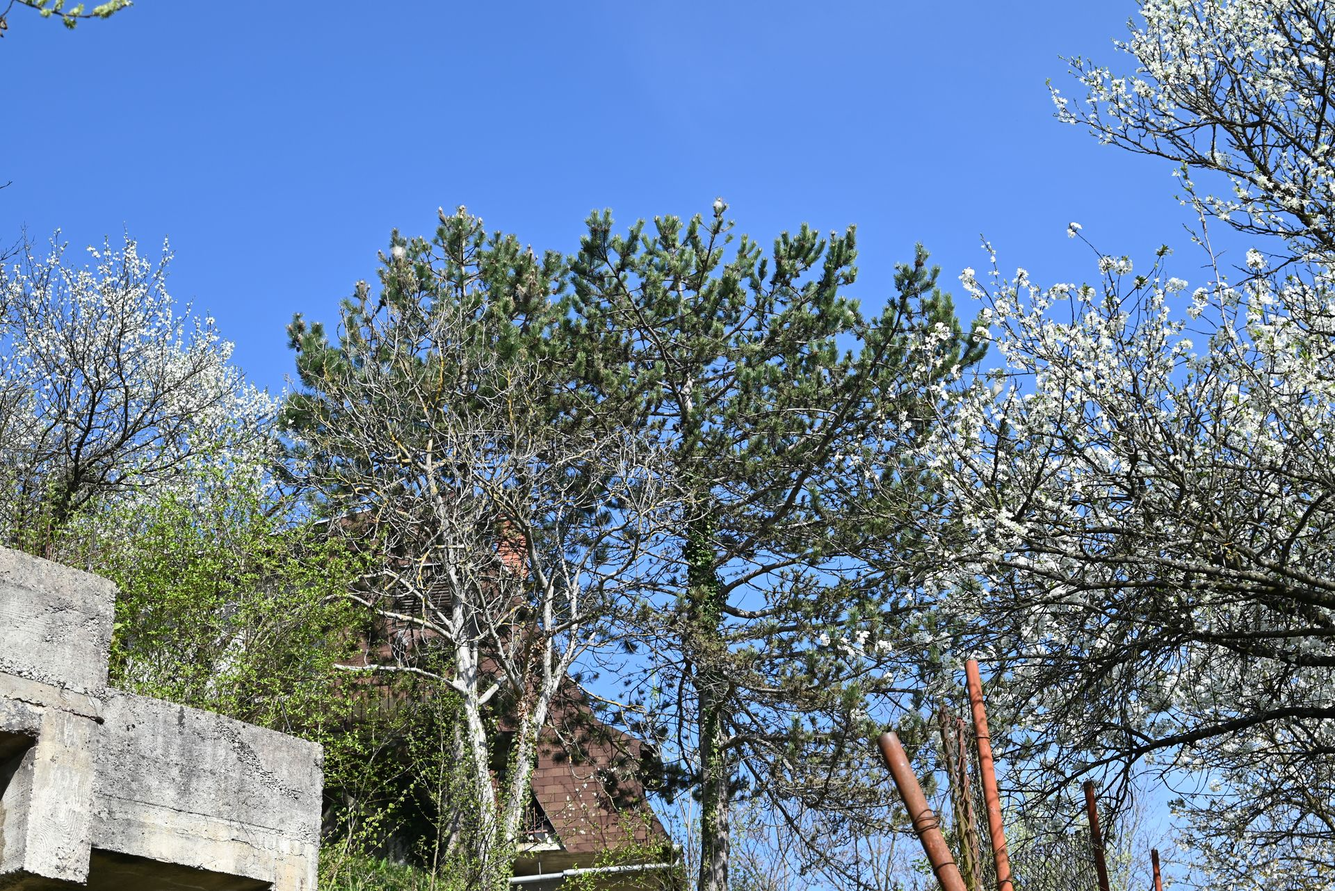thaumatopoea pityocampa jajno gnijezdo: (390, 243, 408, 261), (711, 198, 726, 217)
